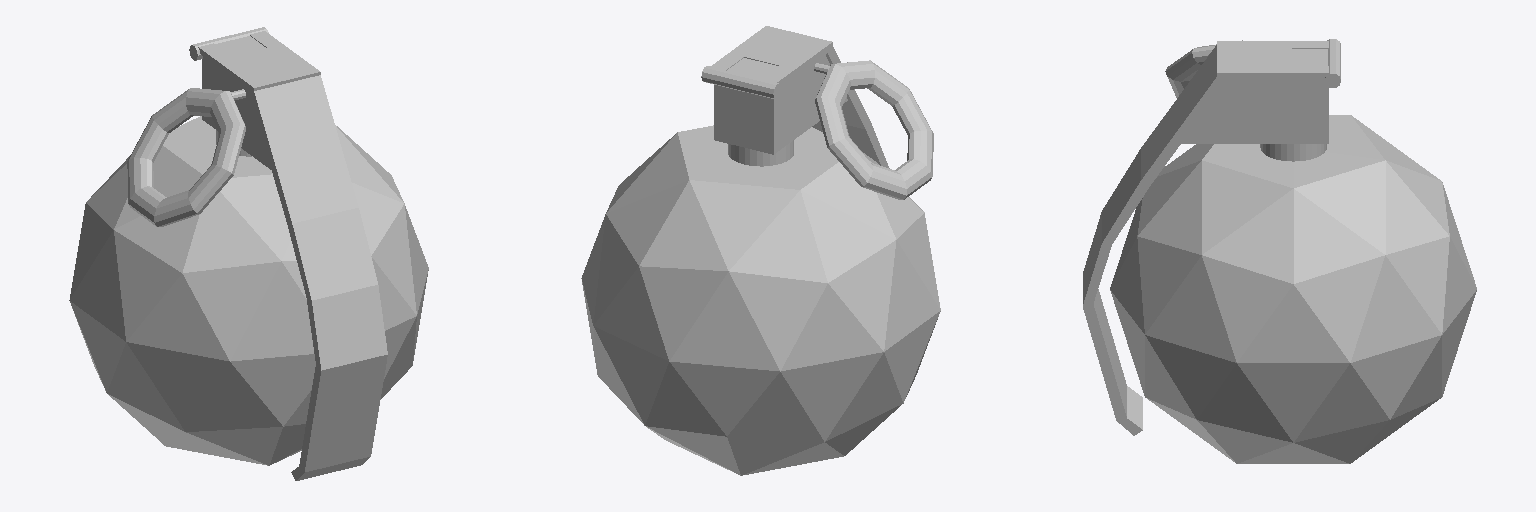
File: grenada.obj
3 views of the same model, side by side, from view 1: azimuth 30°, elevation 25°; view 2: azimuth 150°, elevation 25°; view 3: azimuth 270°, elevation 25° (orthographic).
Parts seen in each view (by area): view 1: Body_Icosphere, Lug_Cylinder, Torus; view 2: Body_Icosphere, Torus, Lug_Cylinder; view 3: Body_Icosphere, Lug_Cylinder, Torus.
Boxes of the visible parts, x1=… form: Body_Icosphere: x1=69, y1=36, x2=428, y2=465; Lug_Cylinder: x1=189, y1=27, x2=387, y2=480; Torus: x1=127, y1=88, x2=245, y2=226; Body_Icosphere: x1=581, y1=55, x2=940, y2=475; Torus: x1=814, y1=60, x2=933, y2=199; Lug_Cylinder: x1=701, y1=26, x2=889, y2=168; Body_Icosphere: x1=1110, y1=49, x2=1476, y2=463; Lug_Cylinder: x1=1083, y1=39, x2=1340, y2=435; Torus: x1=1165, y1=40, x2=1242, y2=97.
Bounding box in the file's own units: 1.9 × 2.4 × 2.15.